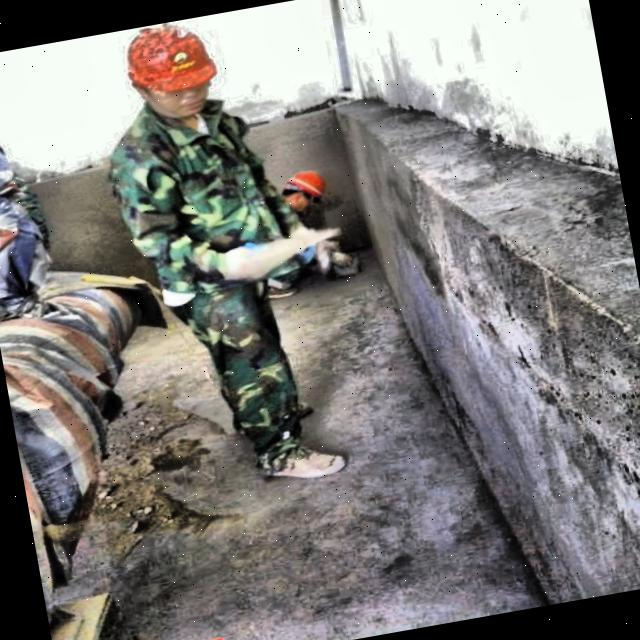helmet: (117, 17, 225, 124), (278, 164, 328, 212)
